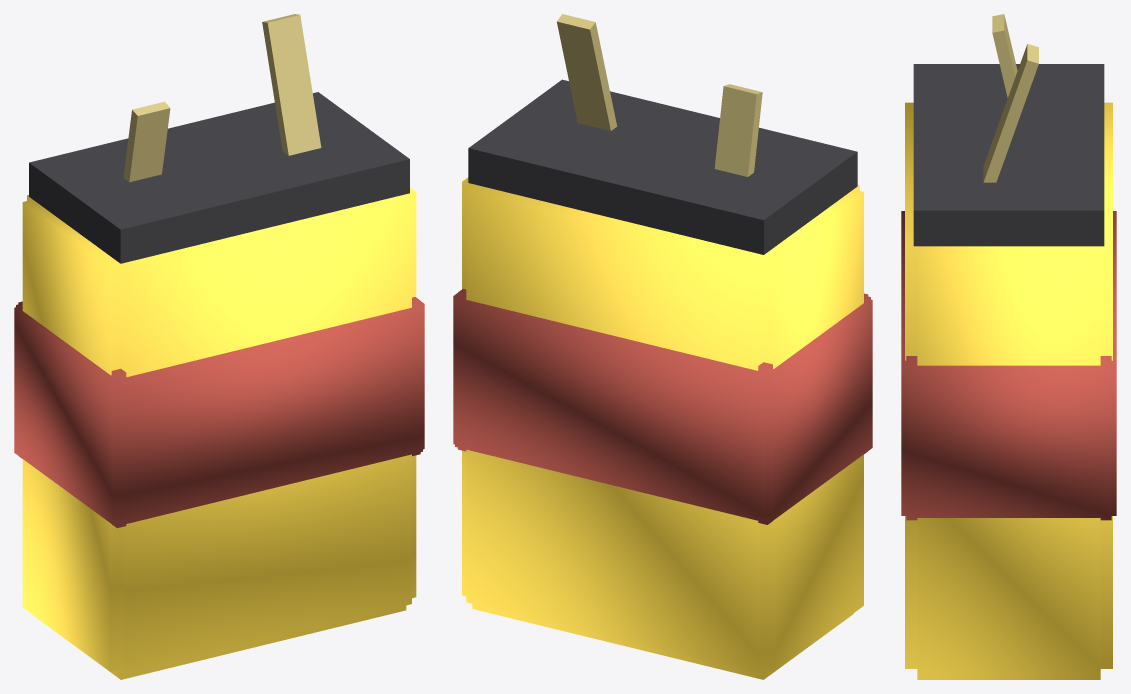
File: battery_pack.glb
The picture shows the model from 3 angles, left to right: view 1: azimuth 30°, elevation 25°; view 2: azimuth 150°, elevation 25°; view 3: azimuth 270°, elevation 25°; orthographic projection. The views are drawn at different scales.
Parts seen in each view (by area): view 1: CaseMain, LabelBand, PitchSeal, TermLong, TermShort; view 2: CaseMain, LabelBand, PitchSeal, TermLong, TermShort; view 3: CaseMain, LabelBand, PitchSeal, TermLong, TermShort.
Part boxes in pixels (x1,y1,x2,y2): CaseMain: [22, 187, 416, 679]; LabelBand: [14, 297, 424, 528]; PitchSeal: [29, 92, 409, 263]; TermLong: [262, 14, 321, 155]; TermShort: [123, 101, 170, 182]; CaseMain: [462, 177, 863, 679]; LabelBand: [453, 289, 872, 524]; PitchSeal: [468, 79, 857, 254]; TermLong: [556, 14, 617, 130]; TermShort: [714, 84, 762, 176]; CaseMain: [905, 102, 1112, 679]; LabelBand: [901, 211, 1116, 520]; PitchSeal: [913, 64, 1104, 246]; TermLong: [983, 44, 1038, 182]; TermShort: [992, 14, 1017, 97].
Size of the model in its own units: 0.153 by 0.2672 by 0.088.
